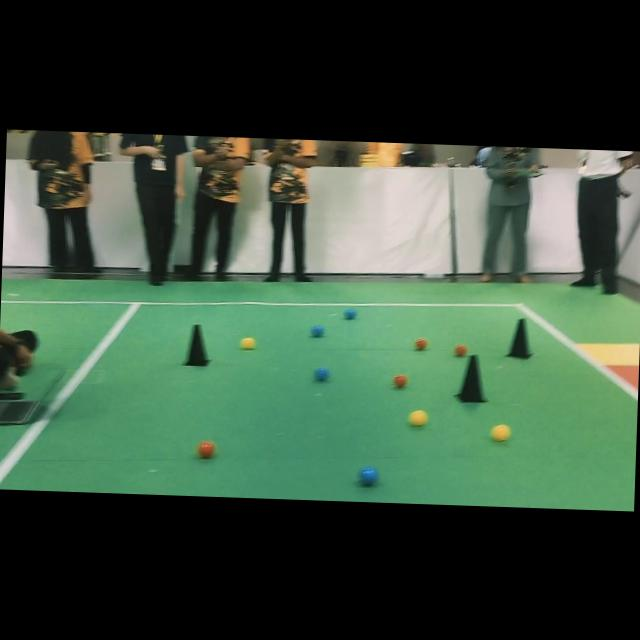ball: (359, 467, 378, 485), (490, 424, 510, 441), (197, 440, 215, 458), (408, 410, 428, 426), (313, 366, 329, 381), (392, 374, 408, 388), (239, 336, 255, 349), (414, 337, 428, 350), (454, 344, 468, 356), (311, 325, 325, 337), (343, 309, 357, 319)
goal: (578, 343, 639, 365), (609, 365, 638, 388)
